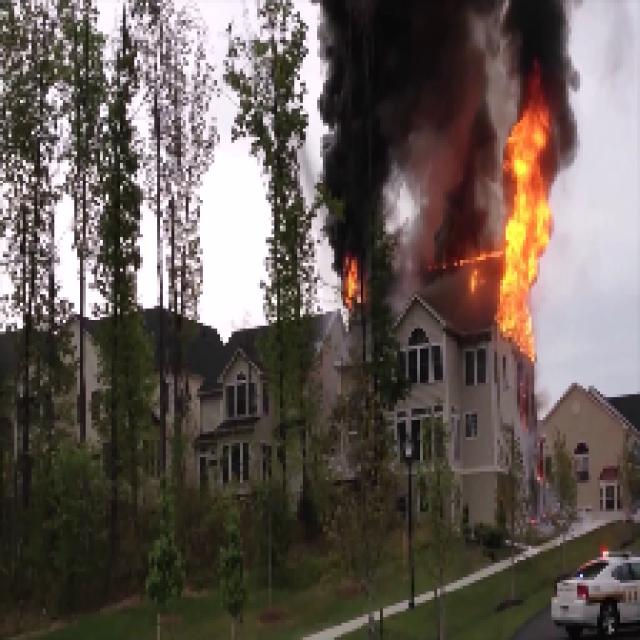fire: (503, 126, 545, 331)
smoke: (328, 11, 479, 246), (507, 9, 562, 102)
